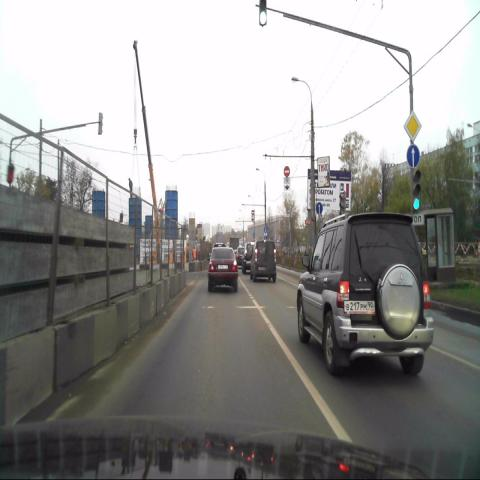4_1_1: (406, 145, 420, 167)
